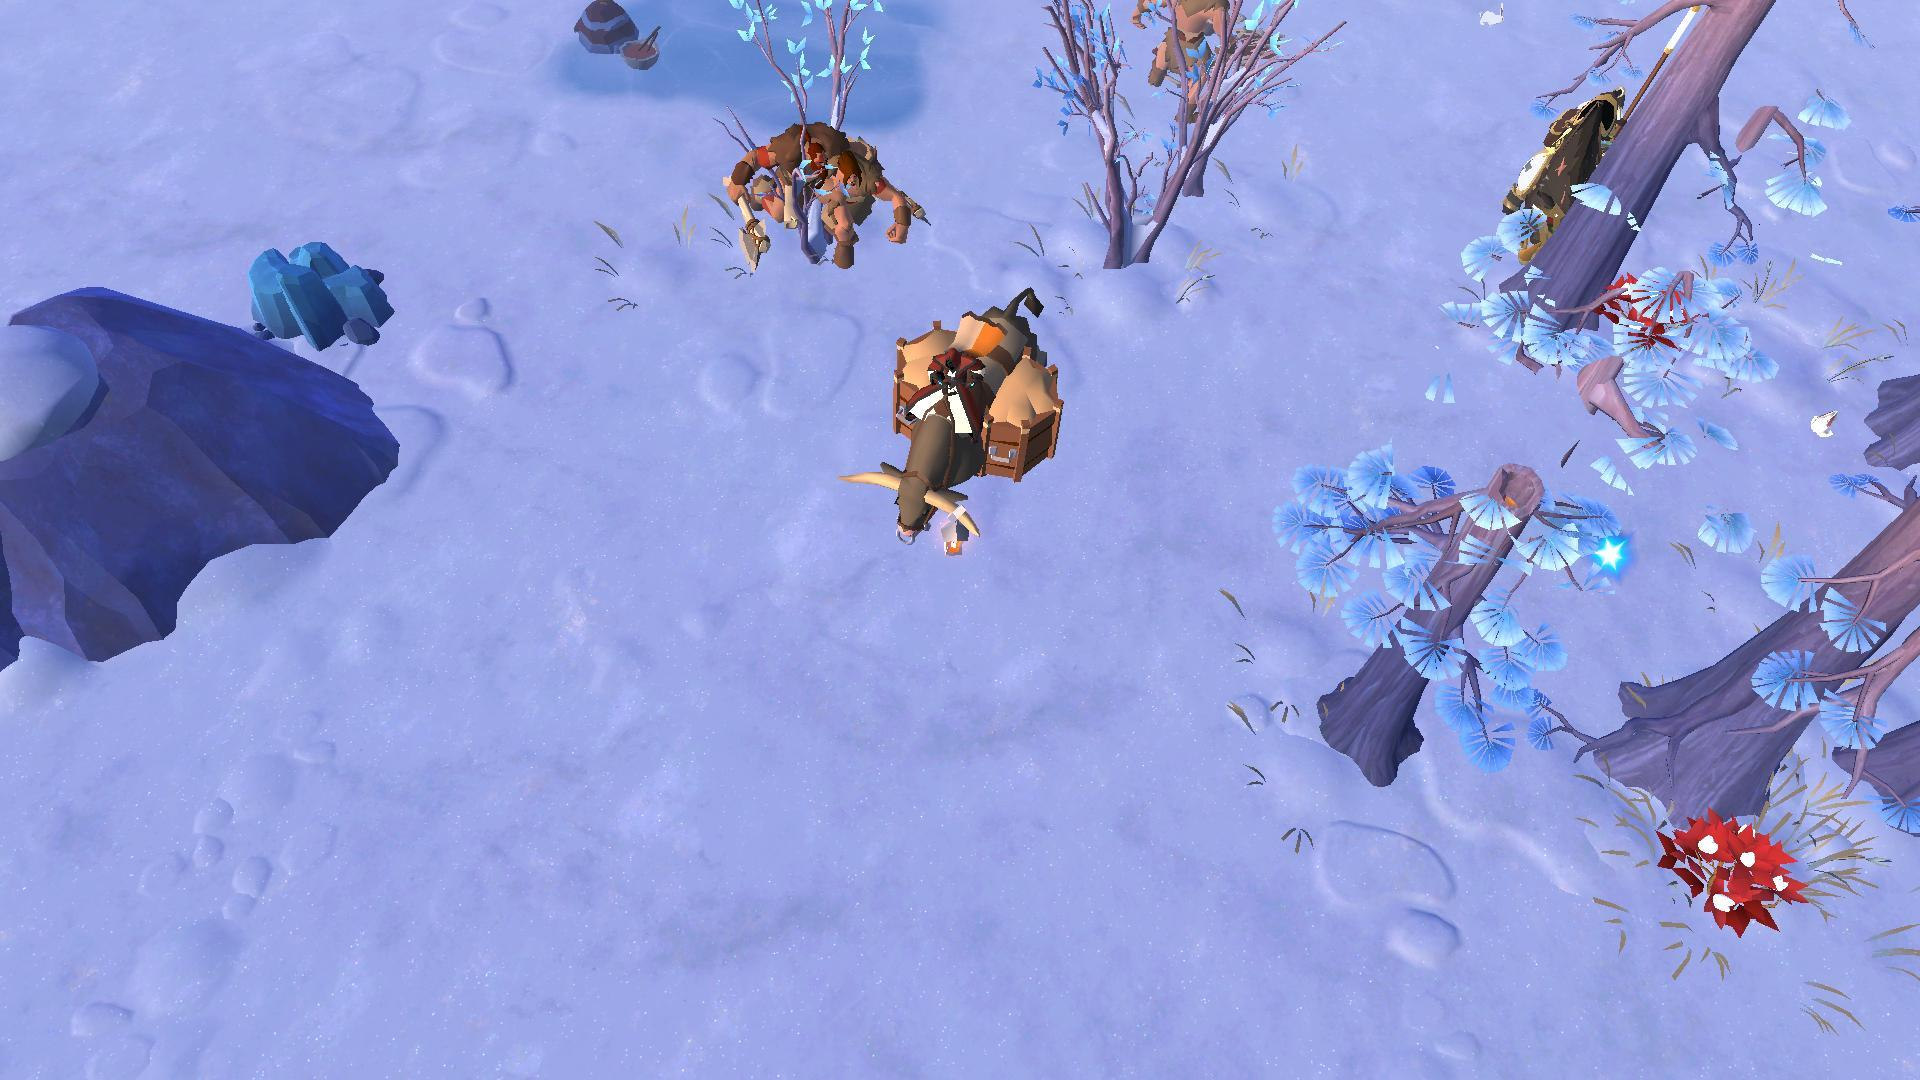enemy_factionKeeper: (731, 105, 920, 276)
fiber_t5: (1658, 808, 1811, 934)
rock_t4: (241, 235, 400, 356)
